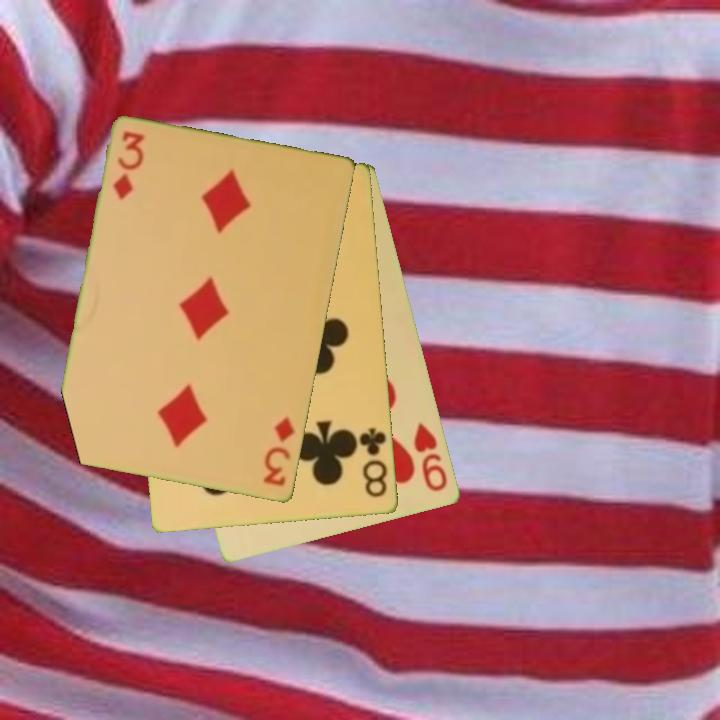3d: (260, 413, 299, 489), (110, 128, 148, 203)
8c: (356, 424, 391, 501)
9h: (411, 419, 451, 495)
